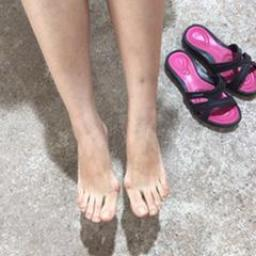Dorsal View -Both Feet-: (52, 91, 176, 229)
